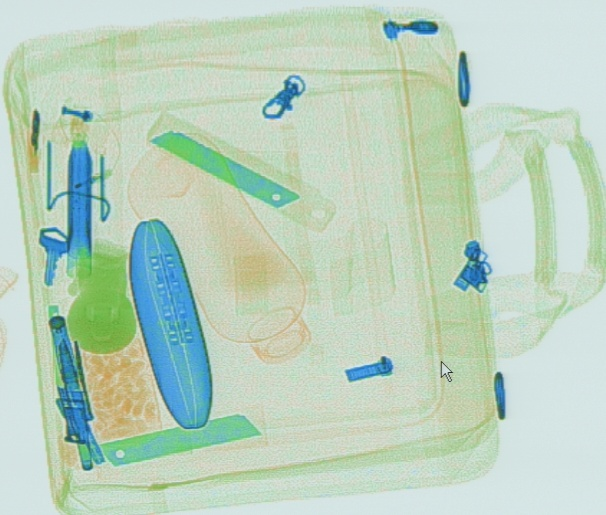knife: (147, 109, 336, 232), (82, 406, 269, 469)
